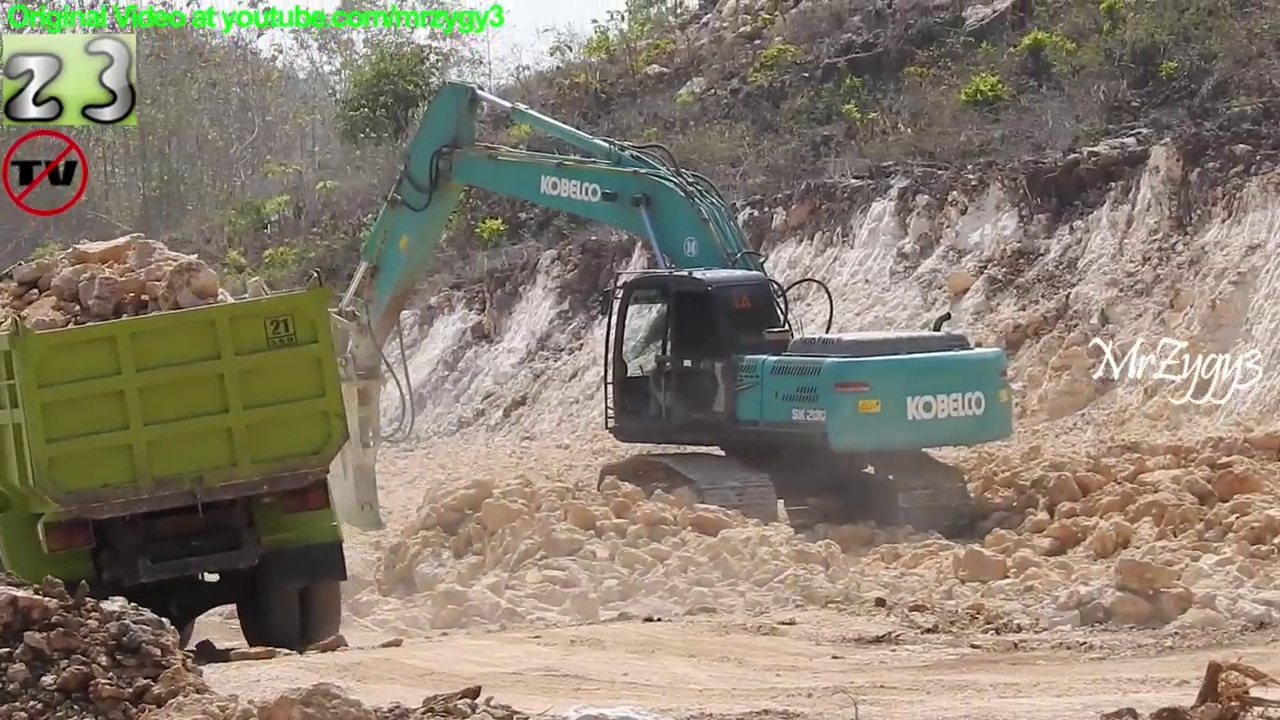excavator: (291, 72, 1024, 551)
truck: (1, 267, 362, 682)
